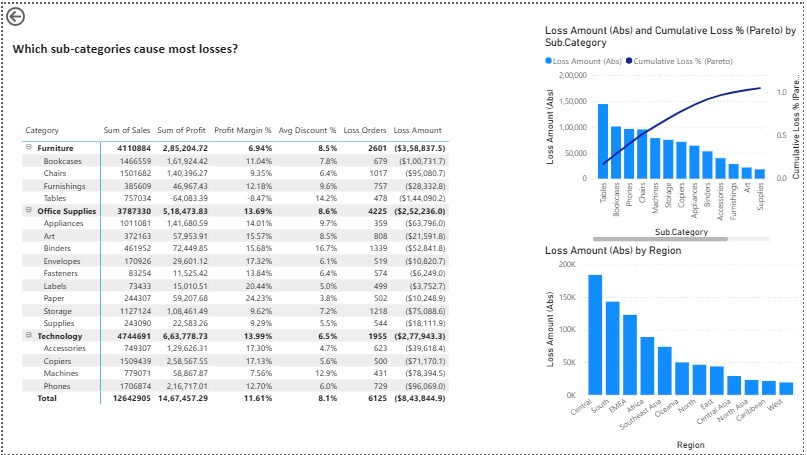

The dashboard page shown, as its layout file describes it:
{"tool":"powerbi","page":{"name":"Profit Leakage Map","canvas":[1280,720],"ordinal":1},"visuals":[{"type":"textbox","box":[10.4,53.7,395,35.8],"z":0},{"type":"lineClusteredColumnComboChart","fields":{"Category":["superstore.Sub.Category"],"Y":["superstore.Loss Amount (Abs)"],"Y2":["superstore.Cumulative Loss % (Pareto)"]},"box":[861.5,31.3,418.8,353.2],"z":1000},{"type":"clusteredColumnChart","fields":{"Category":["superstore.Region"],"Y":["superstore.Loss Amount (Abs)"]},"box":[861.5,384.5,418.8,335.4],"z":2000},{"type":"pivotTable","fields":{"Rows":["superstore.Category","superstore.Sub.Category"],"Values":["Sum(superstore.Sales)","Sum(superstore.Profit)","superstore.Profit Margin %","superstore.Avg Discount %","superstore.Loss Orders","superstore.Loss Amount"]},"box":[25.3,186.3,722.9,488.9],"z":3000},{"type":"actionButton","box":[0,0,100,40],"z":4000}]}

Visuals, with their boxes in screenshot pixels (x1, y1, x2, y2), scaled from the page's 1280x720 canvas onto the 807x455 screenshot:
textbox: bbox(7, 34, 256, 57)
lineClusteredColumnComboChart - superstore.Sub.Category x superstore.Loss Amount (Abs): bbox(543, 20, 806, 243)
clusteredColumnChart - superstore.Region x superstore.Loss Amount (Abs): bbox(543, 243, 806, 454)
pivotTable - superstore.Category x superstore.Sub.Category: bbox(16, 118, 472, 427)
actionButton: bbox(0, 0, 63, 25)
